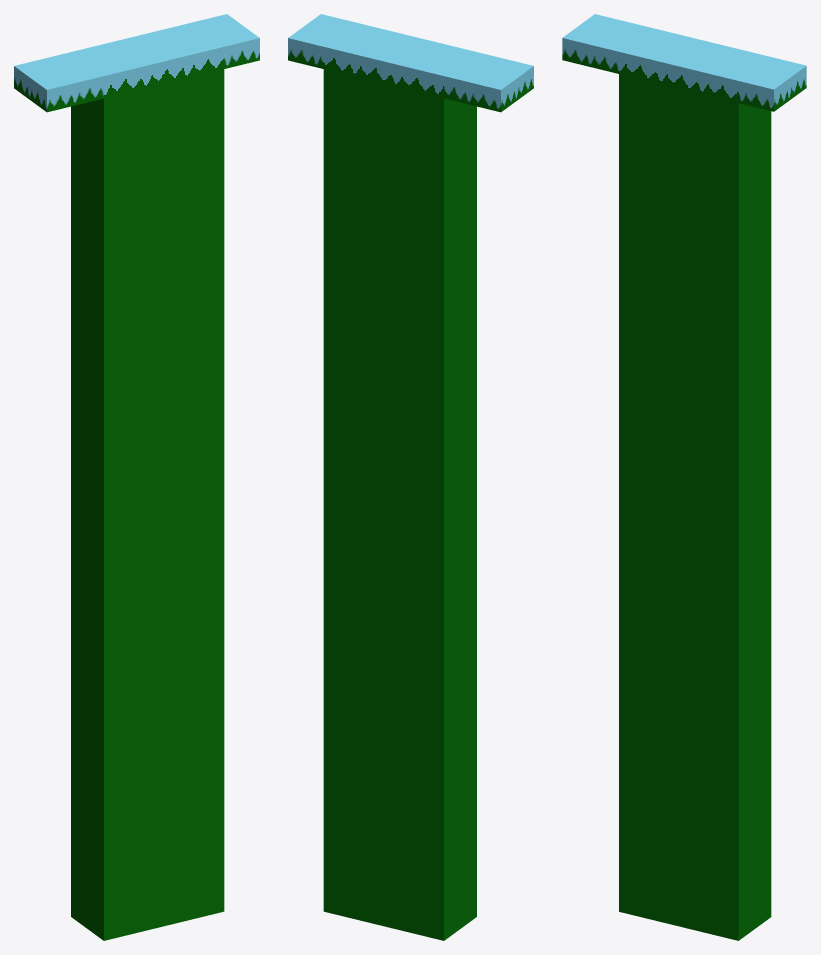
File: Map2.obj
The picture shows the model from 3 angles, left to right: view 1: azimuth 30°, elevation 25°; view 2: azimuth 150°, elevation 25°; view 3: azimuth 330°, elevation 25°; orthographic projection.
Bounding box in the file's own units: 59.8 × 232 × 16.
4 materials, 4 textured.
